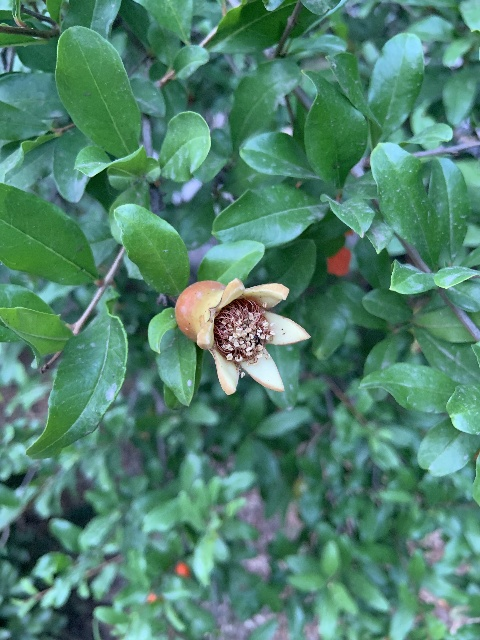early-fruit: (174, 277, 311, 395)
